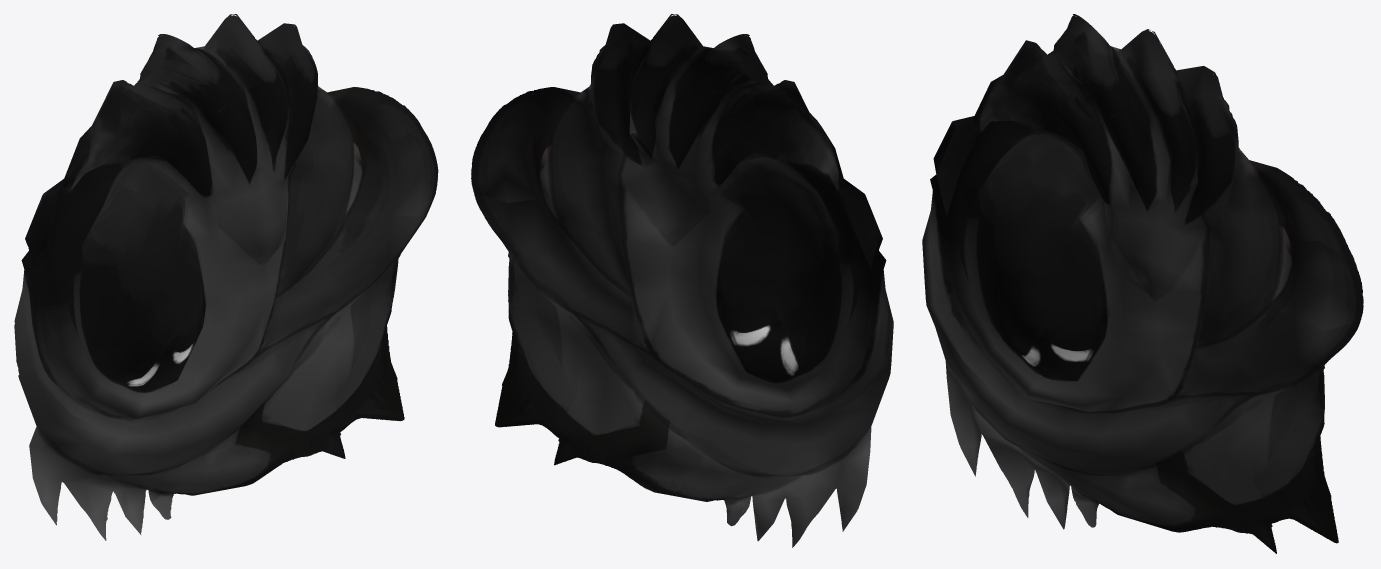
The model's file is demon.fbx.
The picture shows the model from 3 angles, left to right: view 1: azimuth 30°, elevation 25°; view 2: azimuth 150°, elevation 25°; view 3: azimuth 330°, elevation 25°; orthographic projection. The views are drawn at different scales.
Parts seen in each view (by area): view 1: demon; view 2: demon; view 3: demon.
Part boxes in pixels (x1,y1,x2,y2): demon: (14,14,438,540); demon: (471,14,893,547); demon: (922,14,1363,553).
Bounding box in the file's own units: 165 × 21.06 × 193.
